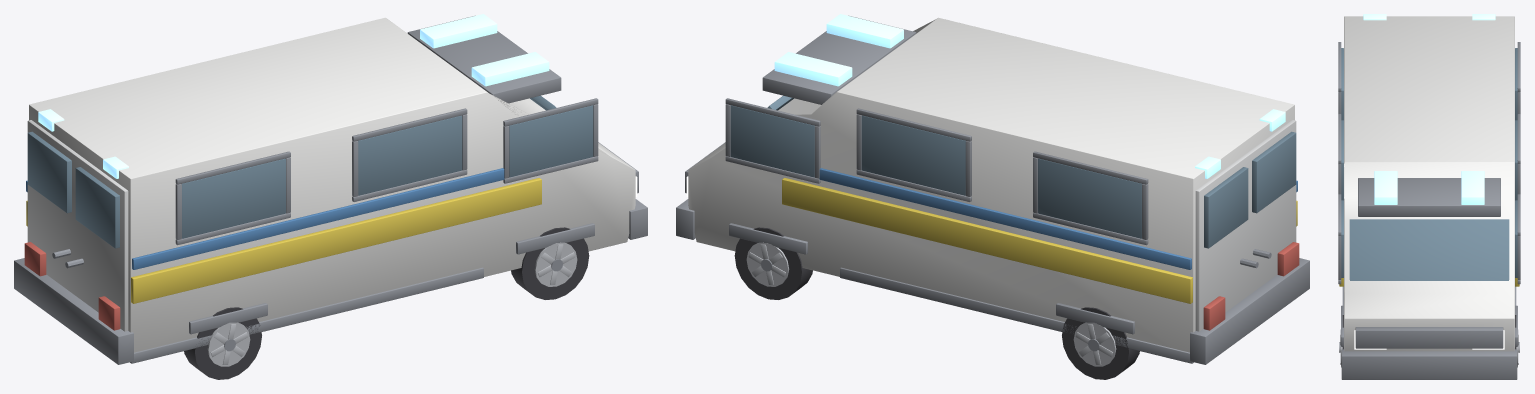
File: th49_rettungswagen.glb
The picture shows the model from 3 angles, left to right: view 1: azimuth 30°, elevation 25°; view 2: azimuth 150°, elevation 25°; view 3: azimuth 270°, elevation 25°; orthographic projection. The views are drawn at different scales.
Parts seen in each view (by area): view 1: RtwKoerper, Cube.001, Cube.036, Cube.010, Cube.015, Cube.002, Cube.005, Cube.040, Cube.046, Cube, Cube.037, Cube.038 (+17 smaller); view 2: RtwKoerper, Cube.003, Cube.036, Cube.025, Cube.030, Cube.004, Cube.020, Cube.040, Cube.046, Cube, Cube.037, Cube.038 (+17 smaller); view 3: RtwKoerper, Cube.035, Cube.039, Cube.046, Cube.041, Cube.047, Cube.048, Cube.010, Cube.025, Cube.005, Cube.020, Cube.015 (+11 smaller).
Part boxes in pixels (x1,y1,x2,y2): RtwKoerper: (29,17,635,352); Cube.001: (131,178,541,303); Cube.036: (27,120,128,331); Cube.010: (358,115,462,195); Cube.015: (181,158,285,238); Cube.002: (132,168,504,269); Cube.005: (509,105,593,177); Cube.040: (14,258,133,364); Cube.046: (407,15,561,103); Cube: (130,267,483,363); Cube.037: (75,167,119,248); Cube.038: (27,131,71,213); RtwKoerper: (688,17,1294,362); Cube.003: (782,178,1192,303); Cube.036: (1195,120,1296,331); Cube.025: (861,115,965,195); Cube.030: (1038,158,1142,238); Cube.004: (819,168,1191,269); Cube.020: (730,105,814,177); Cube.040: (1190,258,1309,364); Cube.046: (762,15,916,104); Cube: (840,267,1193,363); Cube.037: (1252,131,1296,213); Cube.038: (1204,167,1248,248); RtwKoerper: (1344,16,1514,351); Cube.035: (1349,219,1509,280); Cube.039: (1341,349,1517,379); Cube.046: (1358,178,1500,216); Cube.041: (1355,327,1503,348); Cube.047: (1374,171,1397,204); Cube.048: (1461,171,1484,204); Cube.010: (1341,120,1343,200); Cube.025: (1515,120,1517,200); Cube.005: (1341,200,1343,277); Cube.020: (1515,200,1517,277); Cube.015: (1341,48,1343,120).
Bounding box in the file's own units: 6.68 × 2.68 × 2.35.
